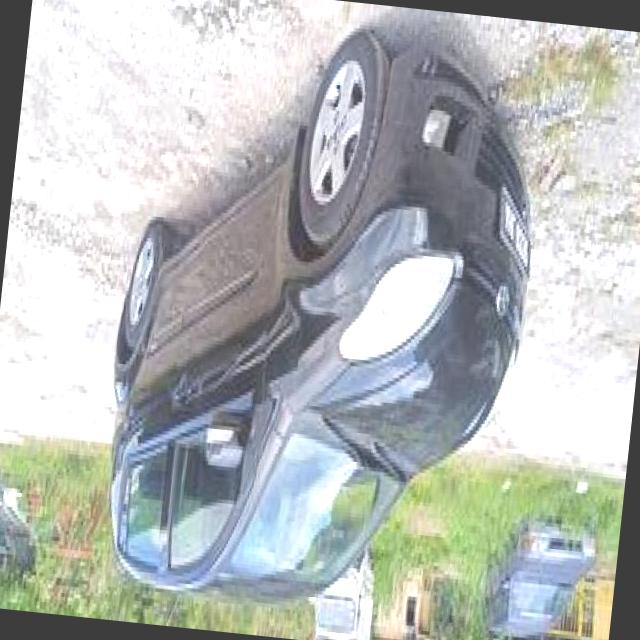PeroduaMyvi: (87, 6, 555, 634)
